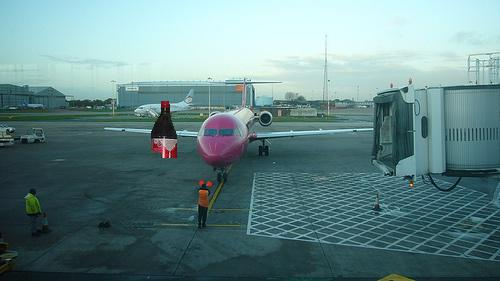tampered: (152, 102, 177, 158)
